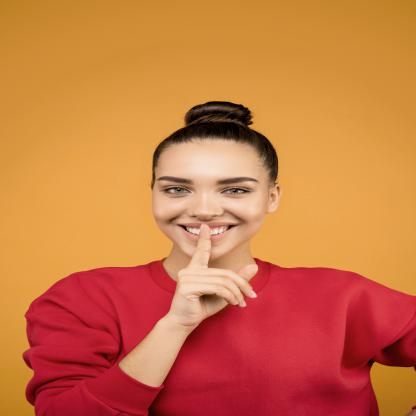Eye: (219, 186, 253, 196), (158, 186, 192, 194)
Mouth: (176, 221, 240, 244)
Nose: (188, 190, 224, 219)
